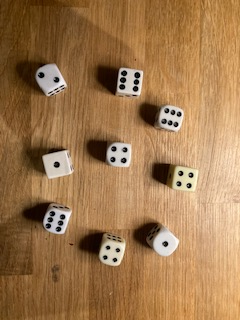four: (97, 232, 126, 266), (166, 163, 199, 192), (104, 139, 133, 168)
one: (144, 224, 181, 258), (42, 149, 73, 180)
six: (41, 203, 74, 234), (153, 105, 184, 134), (114, 67, 143, 97)
two: (34, 62, 69, 98)
